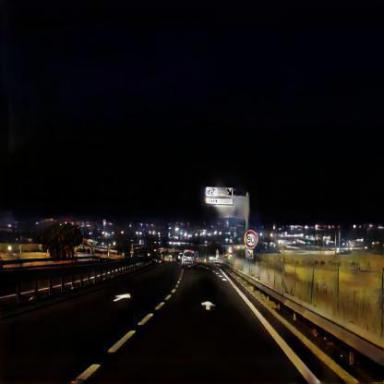Speed_limit_90: (246, 230, 259, 250)
